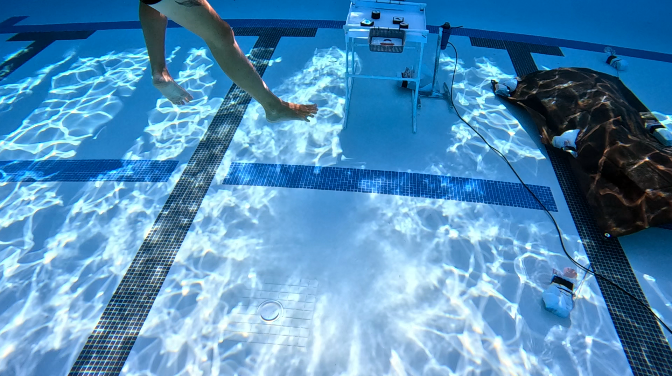sandbag: (496, 51, 671, 240)
